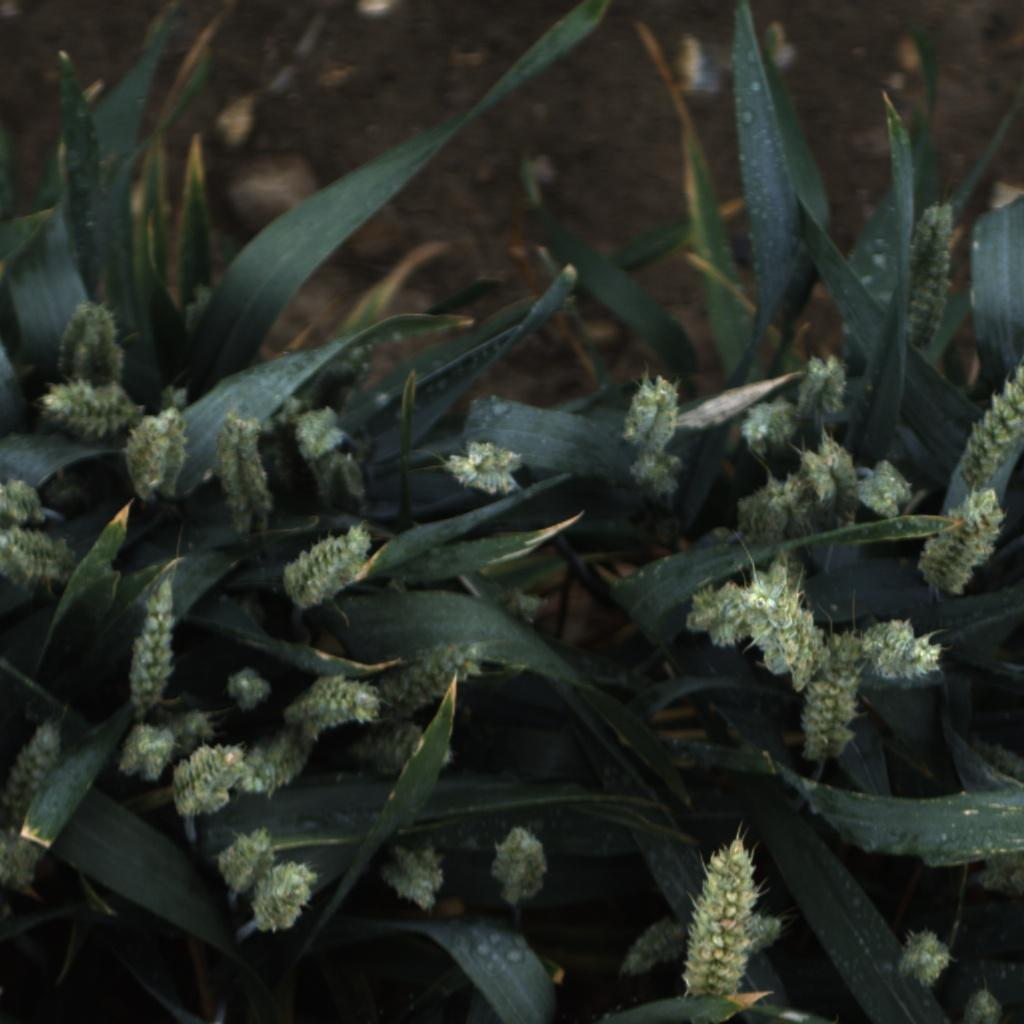0-0: (675, 831, 761, 1003), (949, 336, 1024, 491), (916, 491, 1006, 608), (739, 587, 833, 695), (276, 521, 376, 614), (904, 198, 962, 353), (123, 572, 183, 717), (209, 413, 280, 532), (387, 635, 487, 718), (124, 405, 195, 505), (230, 722, 322, 799), (0, 717, 64, 826), (171, 736, 248, 825), (347, 718, 457, 780), (287, 670, 391, 735), (243, 857, 326, 938), (55, 296, 128, 383), (33, 376, 136, 437), (734, 469, 816, 545), (683, 576, 759, 657), (794, 676, 860, 767), (489, 823, 553, 914), (380, 838, 454, 916), (797, 429, 853, 532), (0, 523, 81, 594), (736, 379, 802, 461), (209, 824, 280, 898), (619, 370, 681, 454), (443, 440, 528, 499), (614, 449, 690, 511), (615, 911, 684, 979), (891, 921, 955, 992), (849, 455, 914, 524), (796, 347, 851, 427), (966, 834, 1024, 907), (110, 722, 178, 784), (0, 822, 47, 897), (291, 403, 348, 464), (872, 636, 944, 684), (746, 550, 808, 604), (965, 731, 1024, 785), (220, 663, 278, 717), (160, 707, 218, 759), (316, 451, 366, 509), (0, 468, 48, 527), (956, 977, 1009, 1024), (861, 616, 916, 660), (819, 628, 865, 679), (40, 474, 90, 519), (741, 908, 786, 952), (333, 344, 376, 388), (505, 585, 550, 623), (153, 382, 195, 418), (271, 395, 307, 427)
